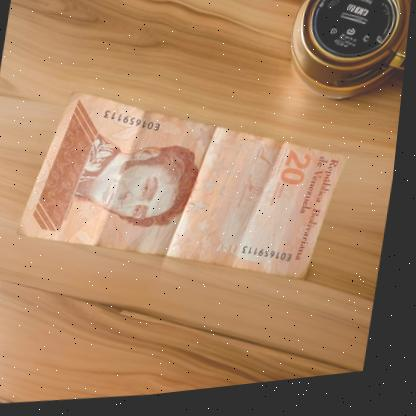twenty-front-vef: (66, 16, 315, 371)
